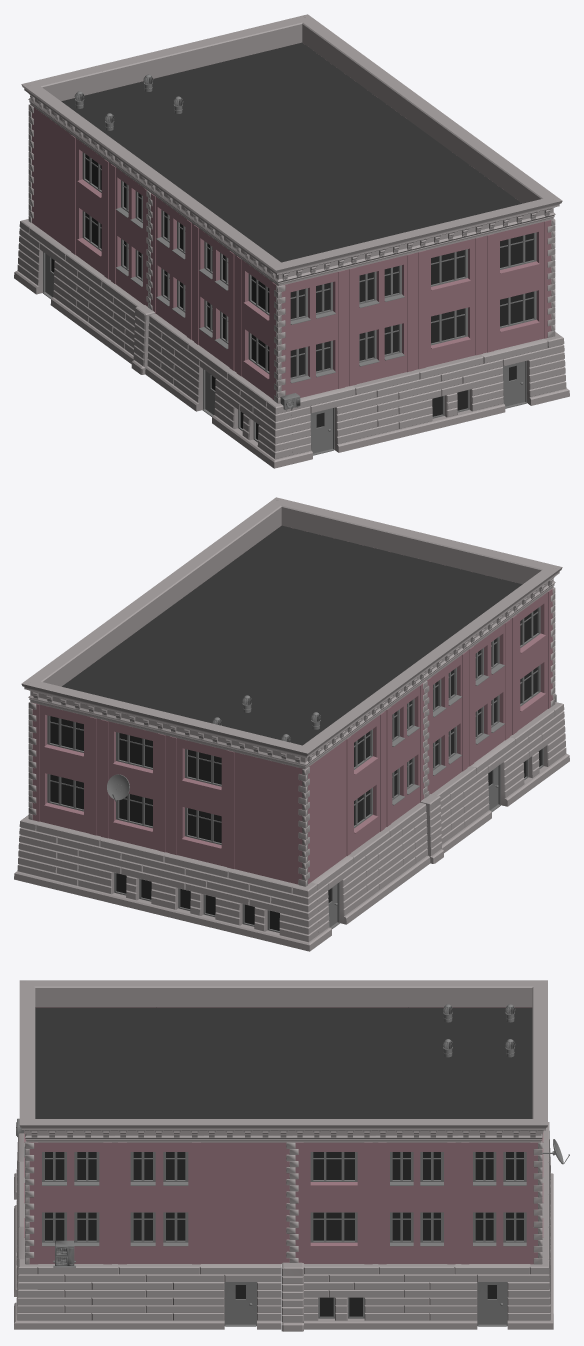
Rendered from Building 12.fbx.
3 renders of one model, top to bottom at view 1: azimuth 30°, elevation 25°; view 2: azimuth 150°, elevation 25°; view 3: azimuth 270°, elevation 25°, orthographic. The views are drawn at different scales.
Visible parts, largest first — view 1: middle_floor_wall_02.004; view 2: middle_floor_wall_02.004; view 3: middle_floor_wall_02.004.
Part boxes in pixels (x1=…): middle_floor_wall_02.004: x1=14, y1=14, x2=569, y2=468; middle_floor_wall_02.004: x1=14, y1=497, x2=569, y2=951; middle_floor_wall_02.004: x1=14, y1=980, x2=569, y2=1331.
Bounding box in the file's own units: 1629 × 1001 × 2493.
